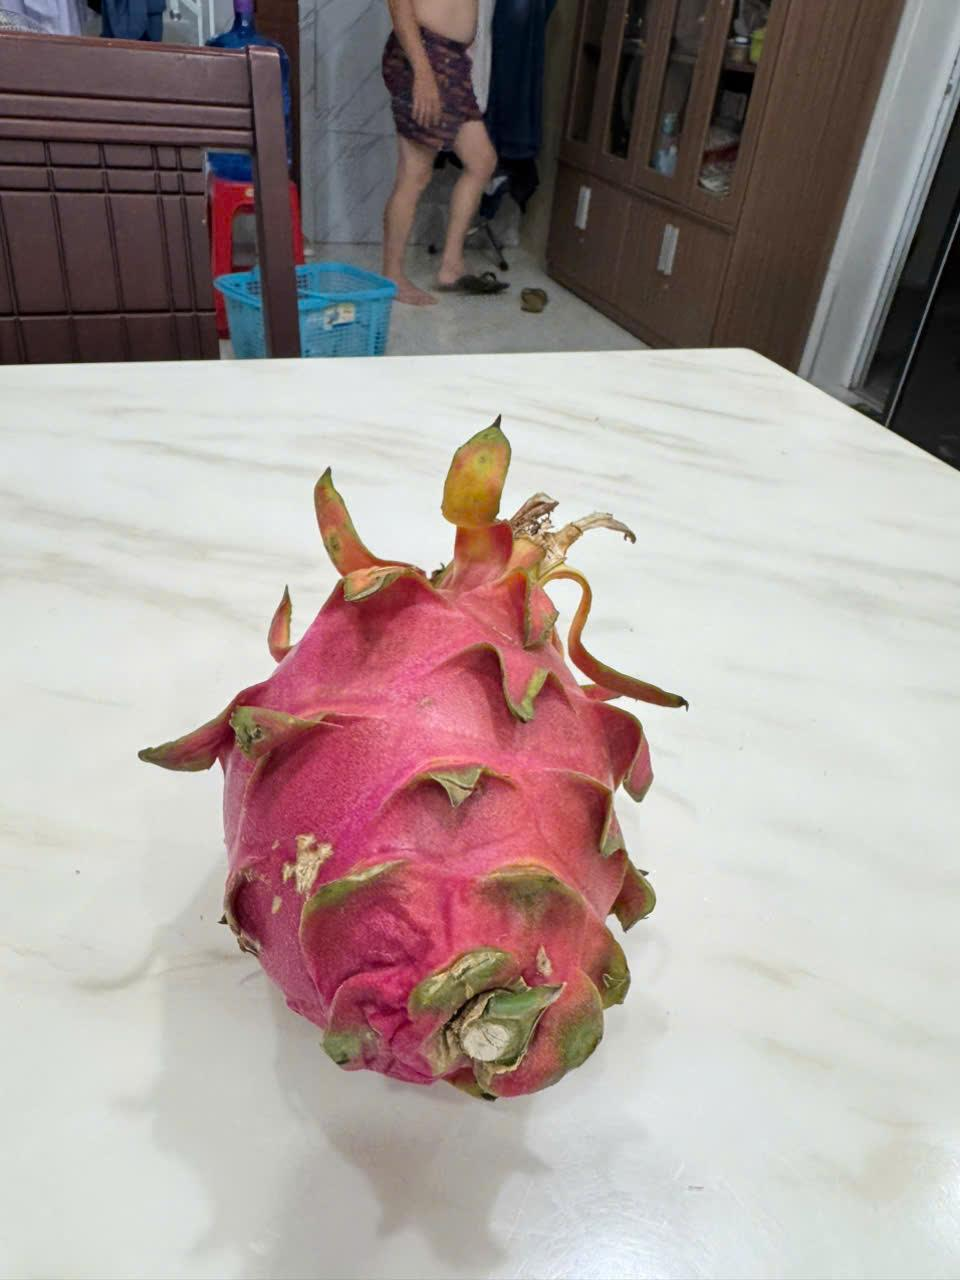dragon fruit: (166, 416, 707, 1154)
